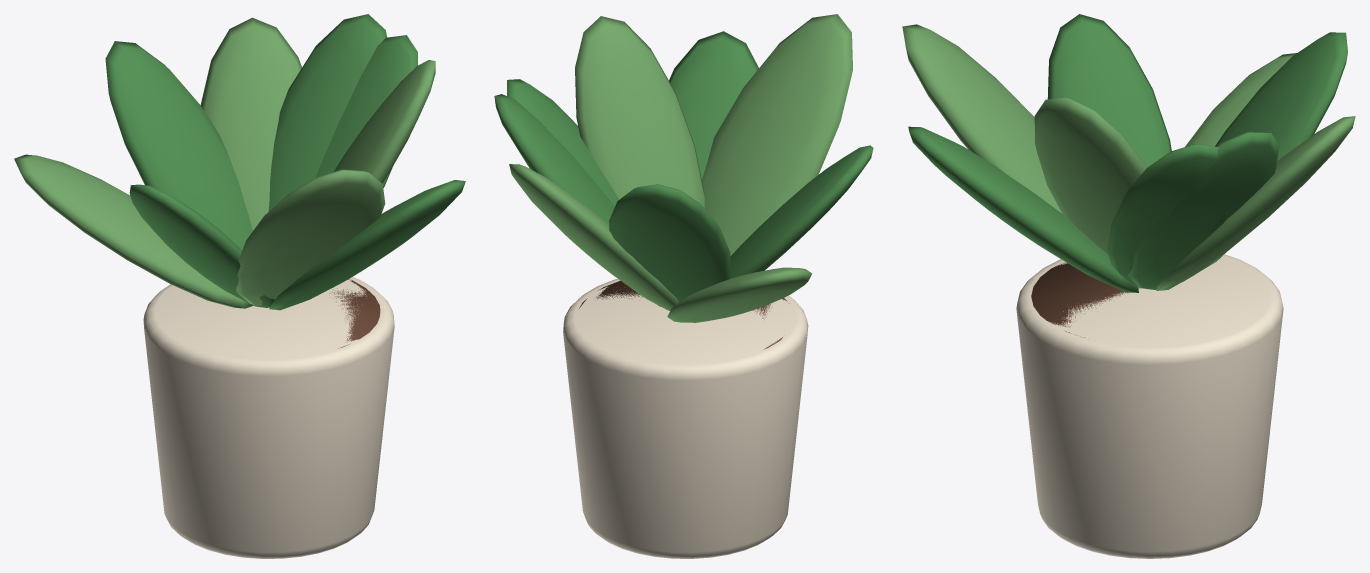
The model's file is plant_big.glb.
3 renders of one model, left to right at view 1: azimuth 30°, elevation 25°; view 2: azimuth 150°, elevation 25°; view 3: azimuth 270°, elevation 25°, orthographic. The views are drawn at different scales.
Visible parts, largest first — view 1: plant_big; view 2: plant_big; view 3: plant_big.
Boxes of the visible parts, box(x1,y1,x2,y2) form: plant_big: box(14, 14, 465, 558); plant_big: box(494, 14, 873, 558); plant_big: box(902, 14, 1355, 558).
Bounding box in the file's own units: 0.6283 × 0.792 × 0.6716.
